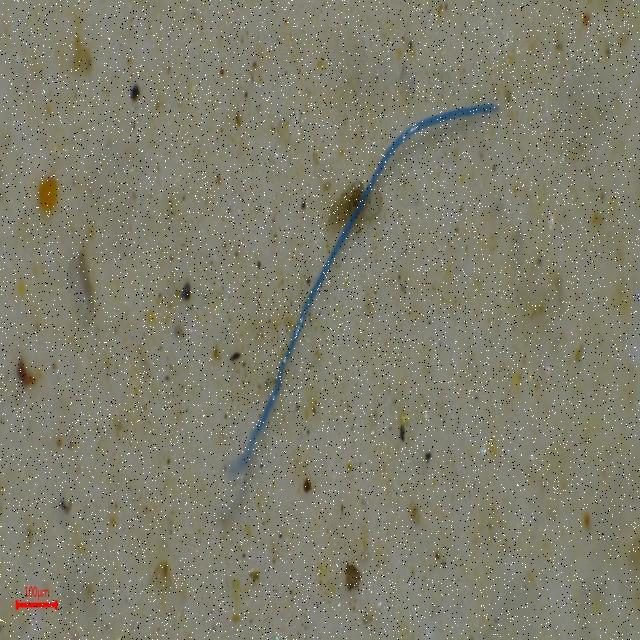fibers: (181, 67, 500, 480)
